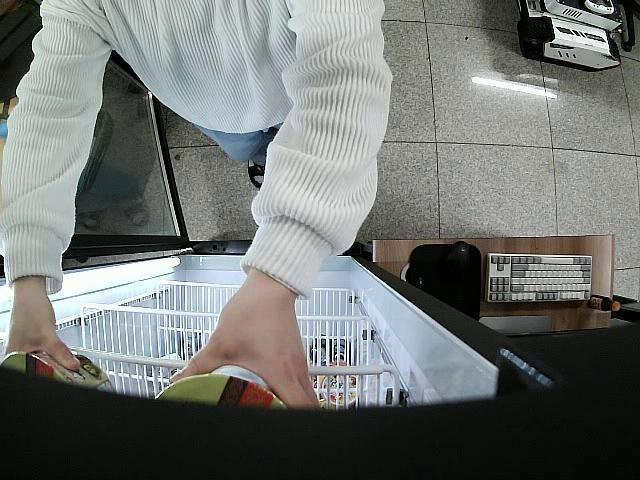03_chapagetti_L: (0, 345, 122, 398), (147, 373, 296, 415)
